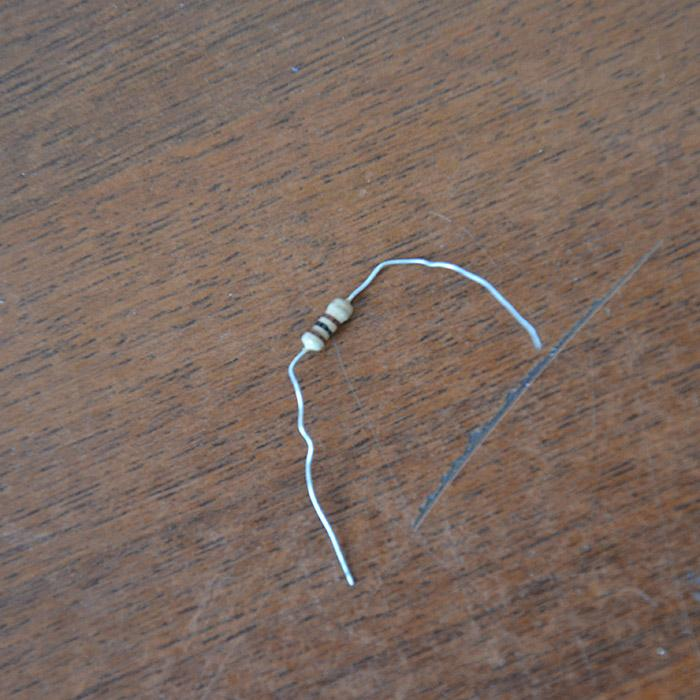resistor: (299, 296, 354, 351)
